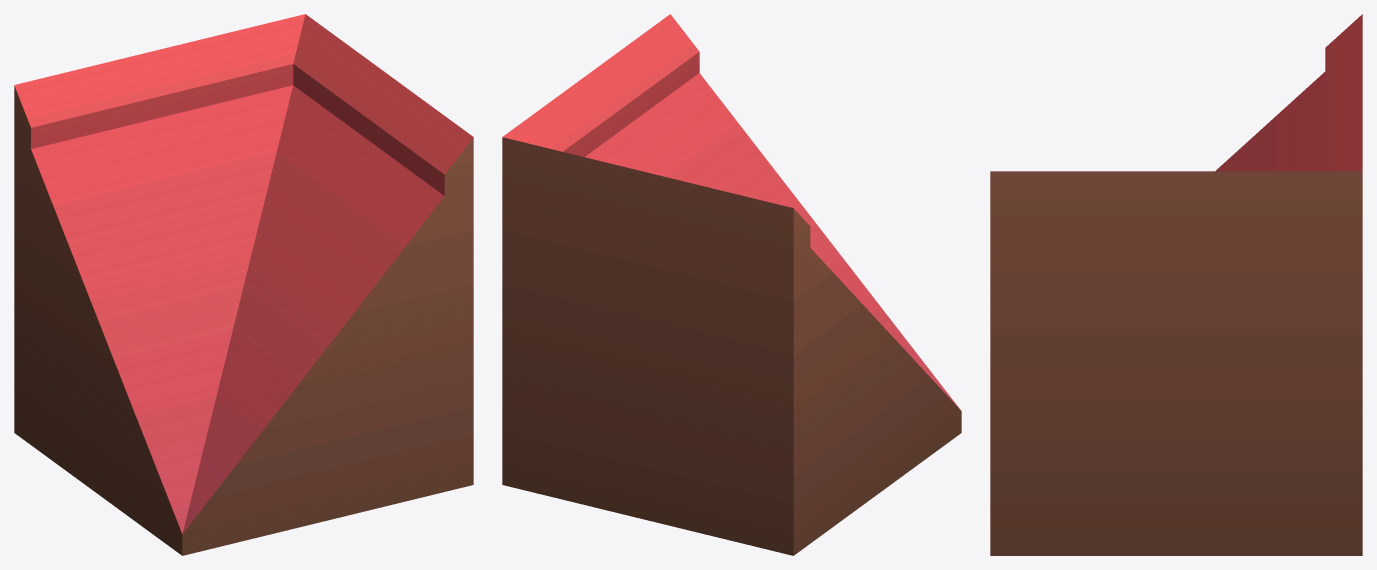
File: roof-high-cornerinner.glb
The picture shows the model from 3 angles, left to right: view 1: azimuth 30°, elevation 25°; view 2: azimuth 150°, elevation 25°; view 3: azimuth 270°, elevation 25°; orthographic projection. The views are drawn at different scales.
Parts seen in each view (by area): view 1: roof-high-cornerinner; view 2: roof-high-cornerinner; view 3: roof-high-cornerinner.
Part boxes in pixels (bbox=[...]): roof-high-cornerinner: bbox=[14, 14, 473, 555]; roof-high-cornerinner: bbox=[502, 14, 961, 555]; roof-high-cornerinner: bbox=[990, 14, 1362, 555].
Bounding box in the file's own units: 1 × 1.14 × 1.
Materials: 1 (1 with a texture image).
